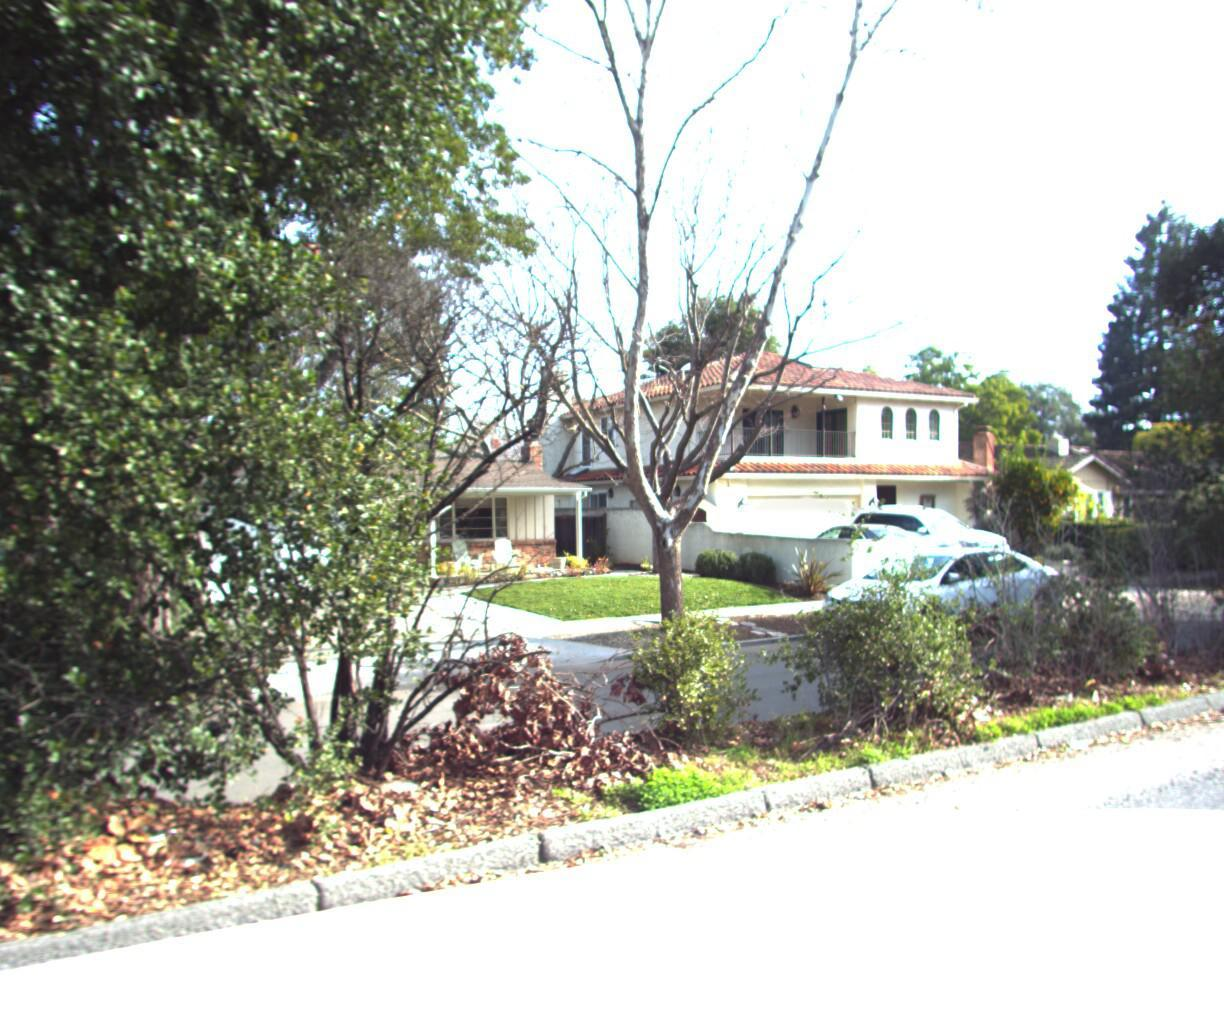car: (799, 533, 1091, 652), (840, 499, 1029, 571), (785, 513, 958, 585)
